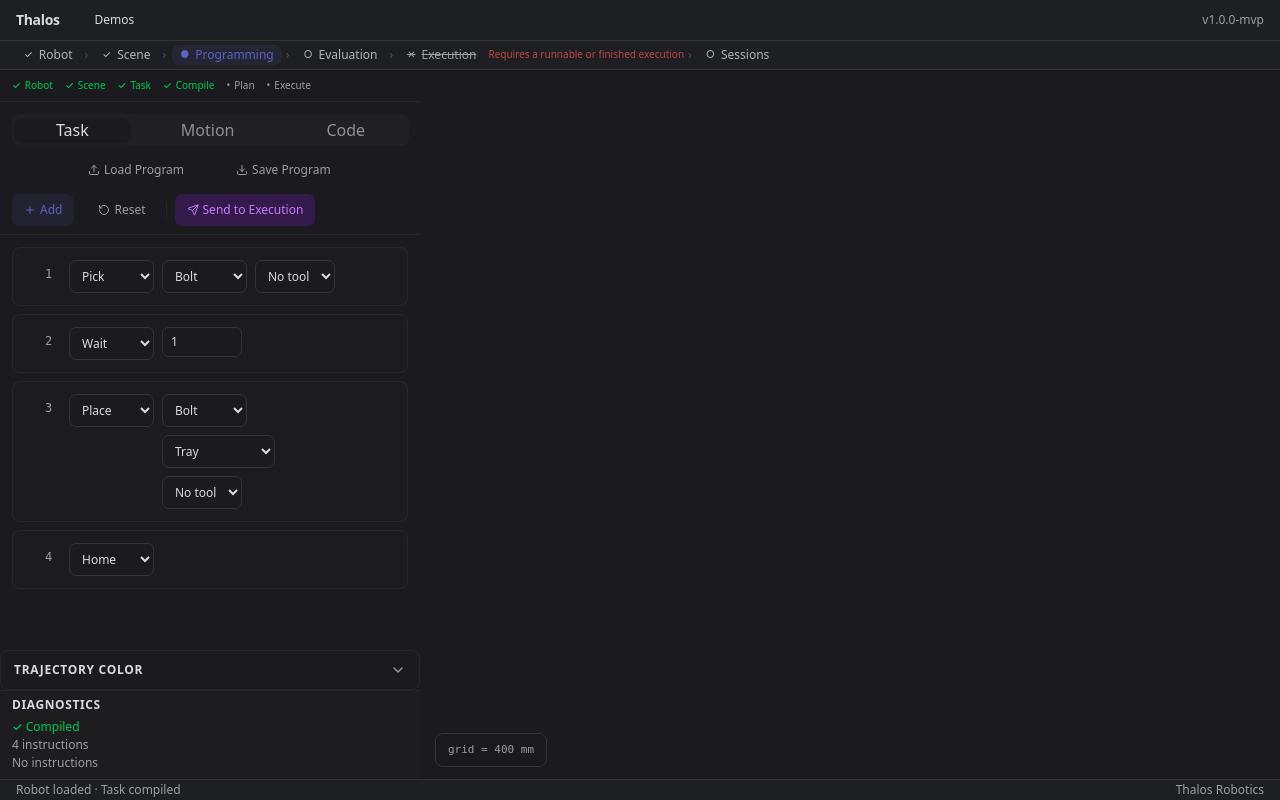
Send to Execution handoff (execution-workspace spec, Invariant #5) › surfaces a handoff error without navigating
Click the button "Send to Execution": (245, 210) [174,194,315,226]
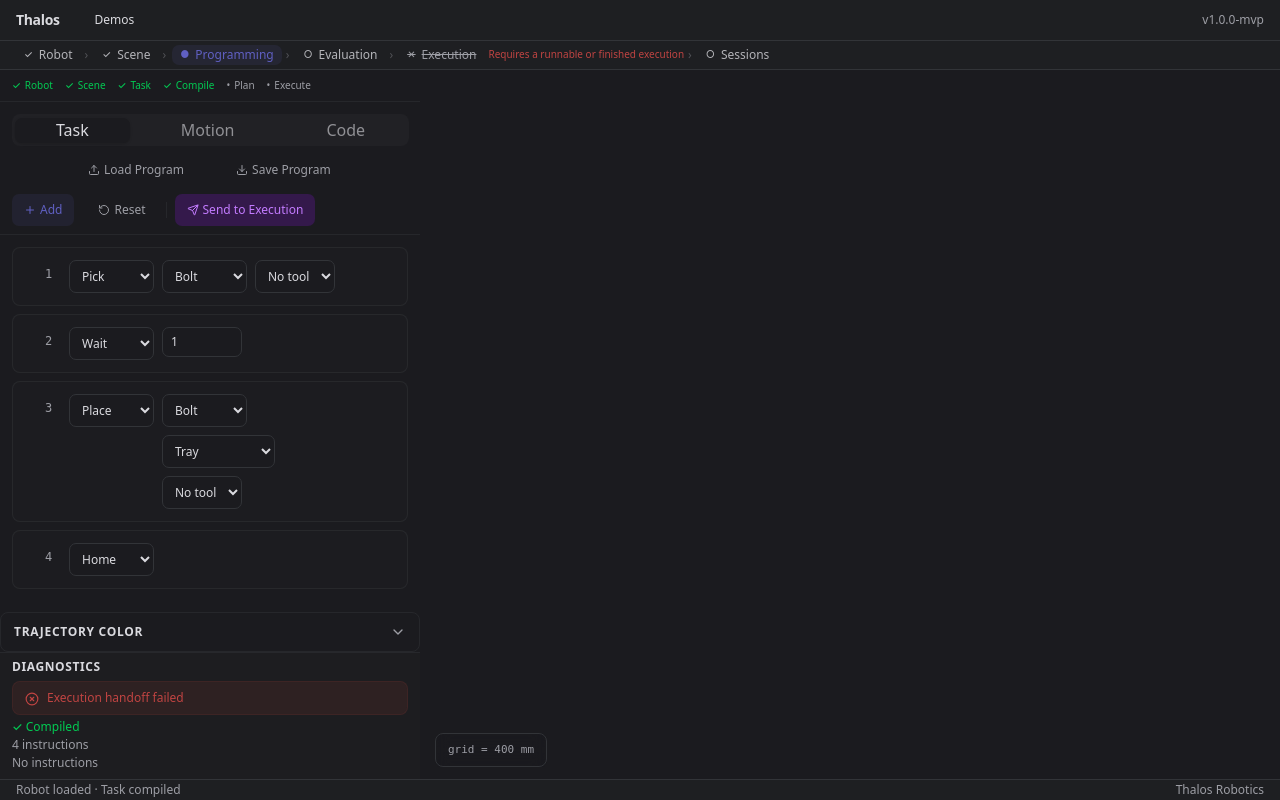
Expected: the text "Execution handoff failed" is shown, [47,690,184,706]
